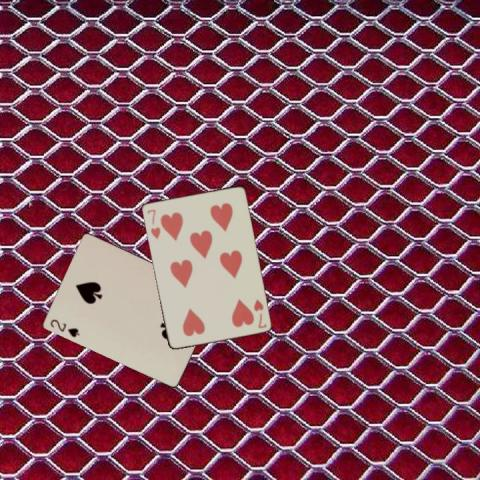2s: (47, 316, 81, 339)
7h: (144, 206, 161, 240), (251, 296, 267, 329)
